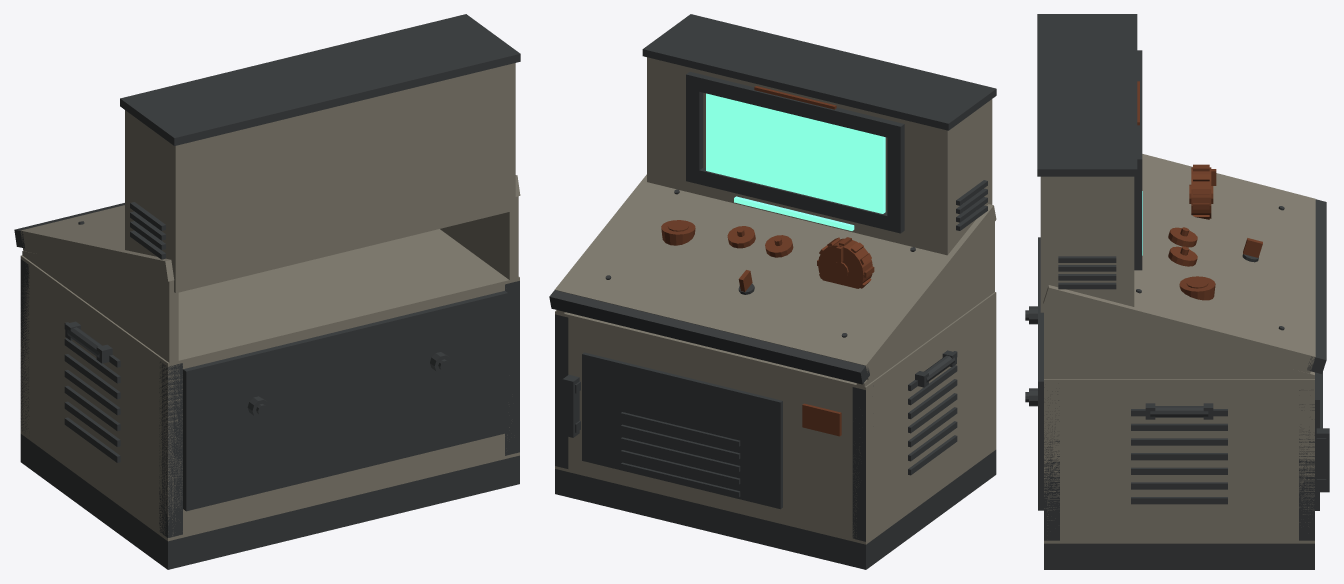
Rendered from sa9-spectrum.glb.
3 renders of one model, left to right at view 1: azimuth 30°, elevation 25°; view 2: azimuth 150°, elevation 25°; view 3: azimuth 270°, elevation 25°, orthographic. The views are drawn at different scales.
Visible parts, largest first — view 1: sa9_body; view 2: sa9_body, display_spectrum, knob_frequency, button_isolate; view 3: sa9_body, knob_frequency, button_isolate.
Boxes of the visible parts, x1,y1,x2,y2 form: sa9_body: [14, 14, 520, 569]; sa9_body: [549, 14, 996, 569]; display_spectrum: [706, 93, 885, 213]; knob_frequency: [817, 237, 874, 288]; button_isolate: [661, 220, 695, 245]; sa9_body: [1025, 14, 1329, 569]; knob_frequency: [1189, 164, 1216, 219]; button_isolate: [1179, 276, 1215, 300].
Bounding box in the file's own units: 1.24 × 1.36 × 0.942.
